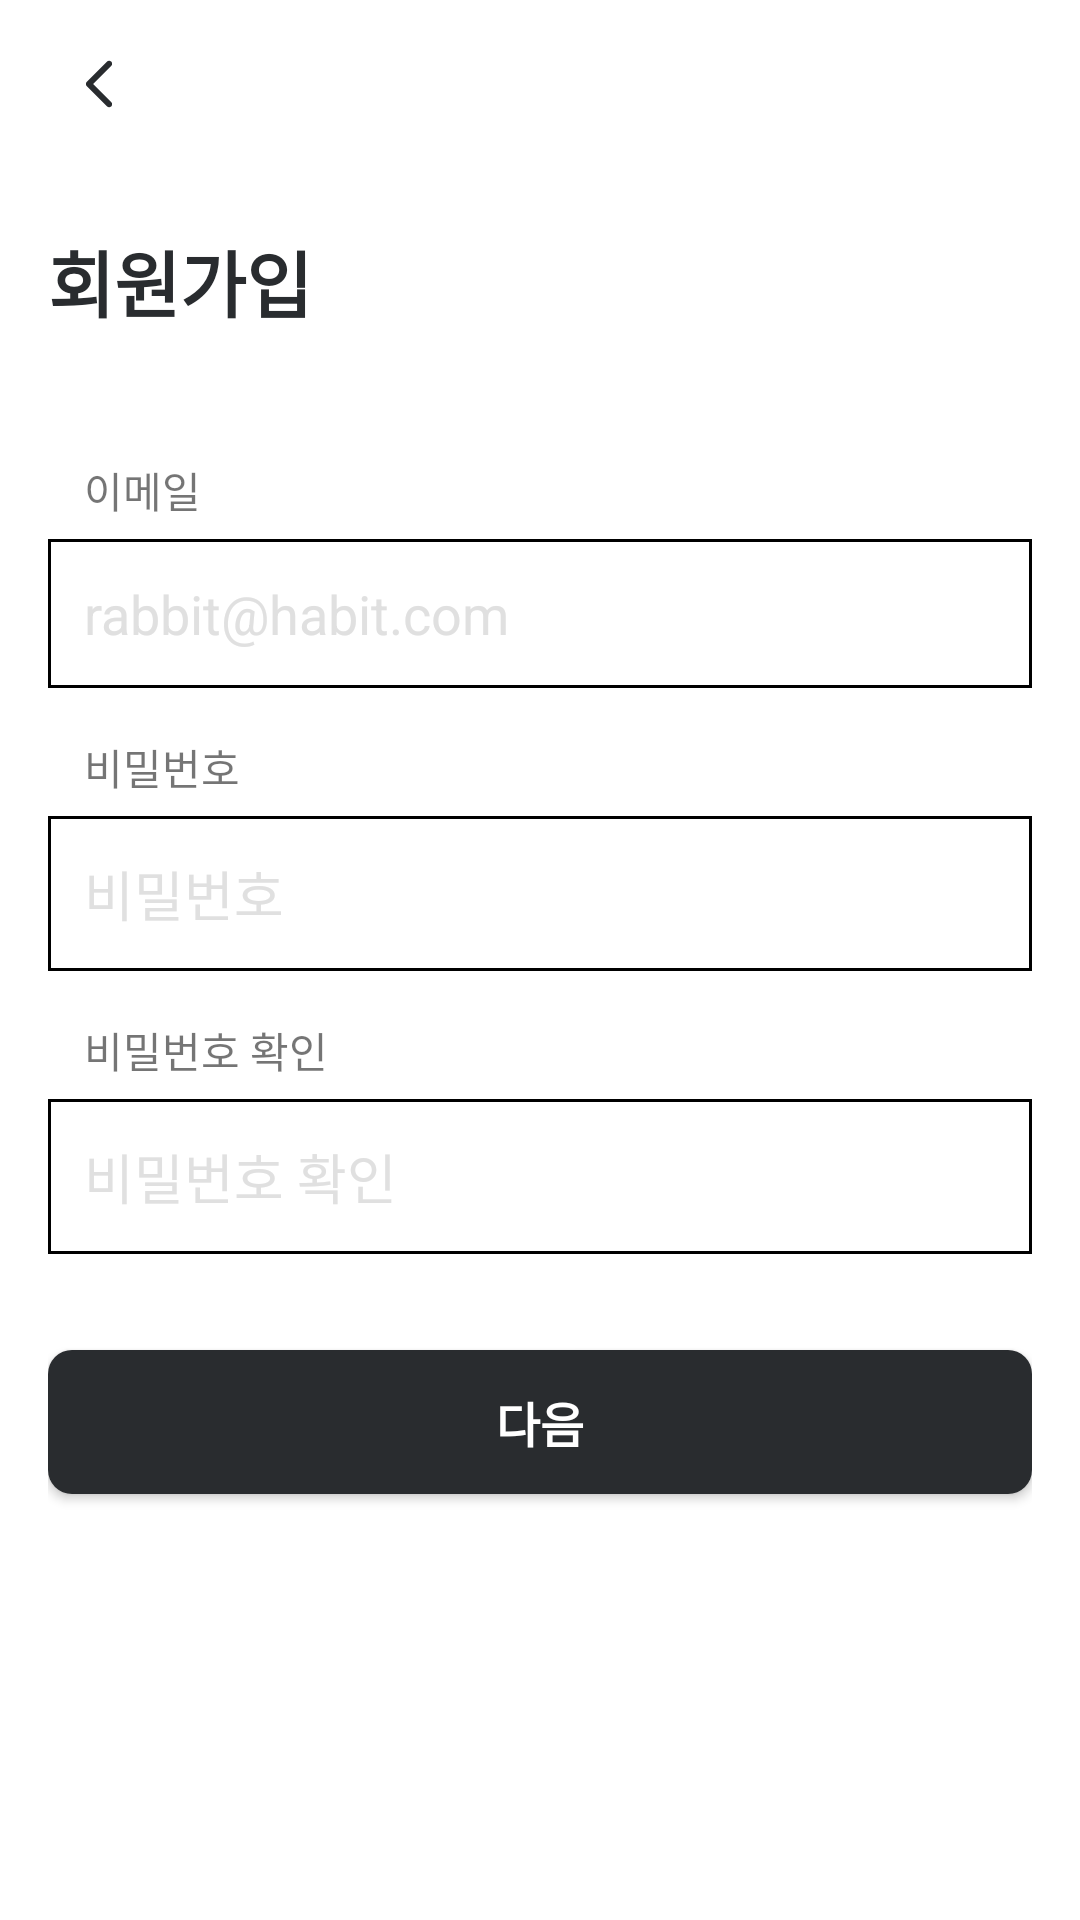

Where to tap for icons on this 1080 x 1920 app screen, as [x,y]:
back: [99,84]
